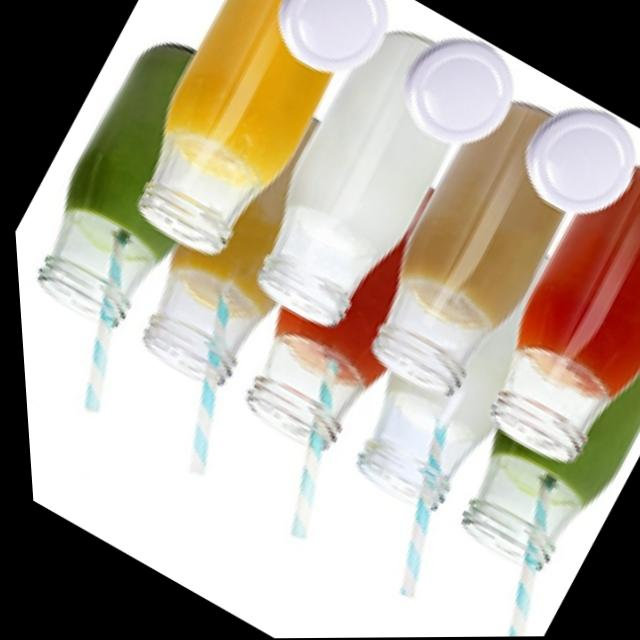glass_beverage_bottles: (93, 0, 381, 276), (223, 107, 447, 347), (340, 172, 557, 412), (454, 246, 640, 479), (430, 452, 593, 601), (324, 388, 477, 532), (115, 266, 267, 410), (217, 335, 372, 474), (11, 206, 160, 350)
